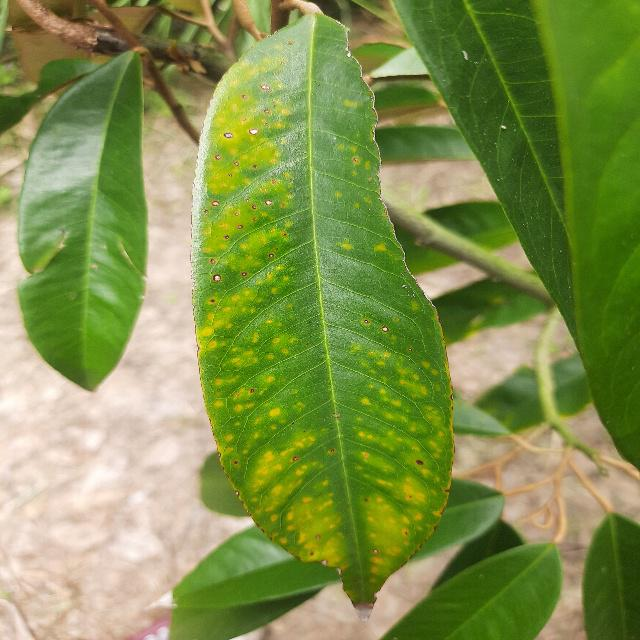Leaf Spot: (179, 0, 467, 630)
